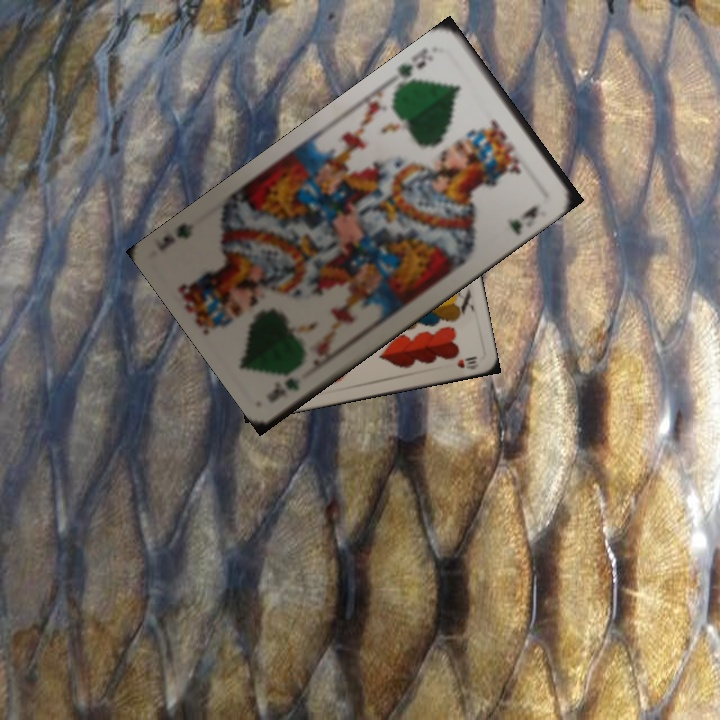GK: (393, 43, 431, 88), (263, 373, 304, 405)
